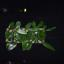leaf: (41, 42, 56, 51), (7, 41, 17, 50), (43, 26, 56, 31), (15, 29, 28, 34), (36, 20, 44, 28), (4, 29, 10, 39), (22, 40, 27, 50), (8, 22, 15, 29), (25, 22, 32, 29), (16, 21, 22, 29), (18, 35, 26, 41), (28, 32, 34, 40), (40, 31, 46, 38), (28, 29, 42, 32), (31, 20, 36, 28), (28, 42, 32, 49)
